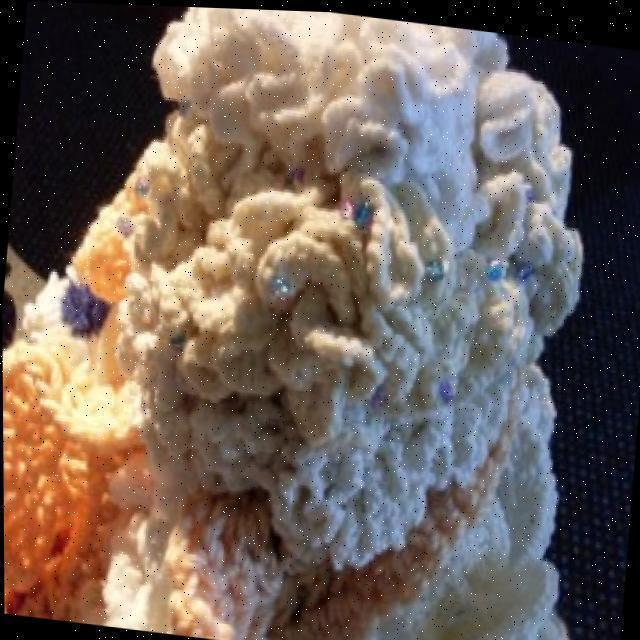Bleached Coral: (97, 0, 557, 640)
